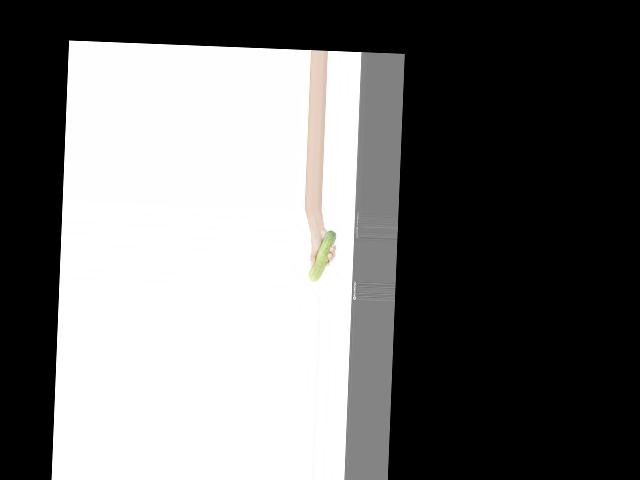cucumber: (308, 229, 336, 281)
